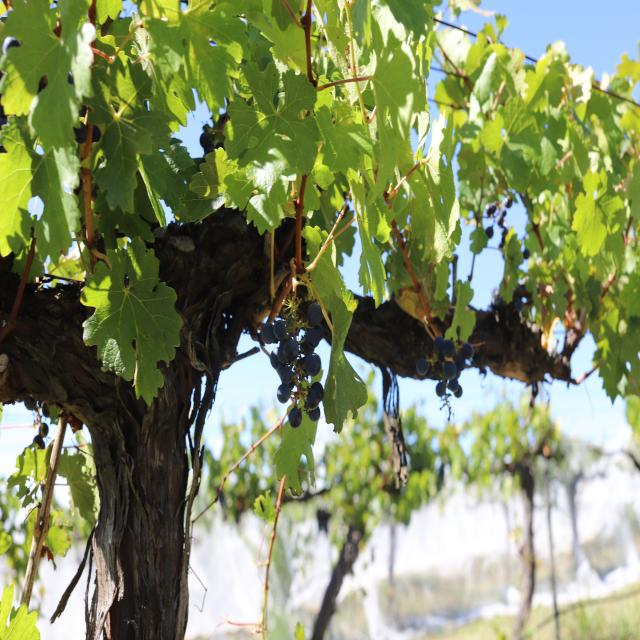grapes: (261, 302, 324, 428), (433, 336, 474, 397)
